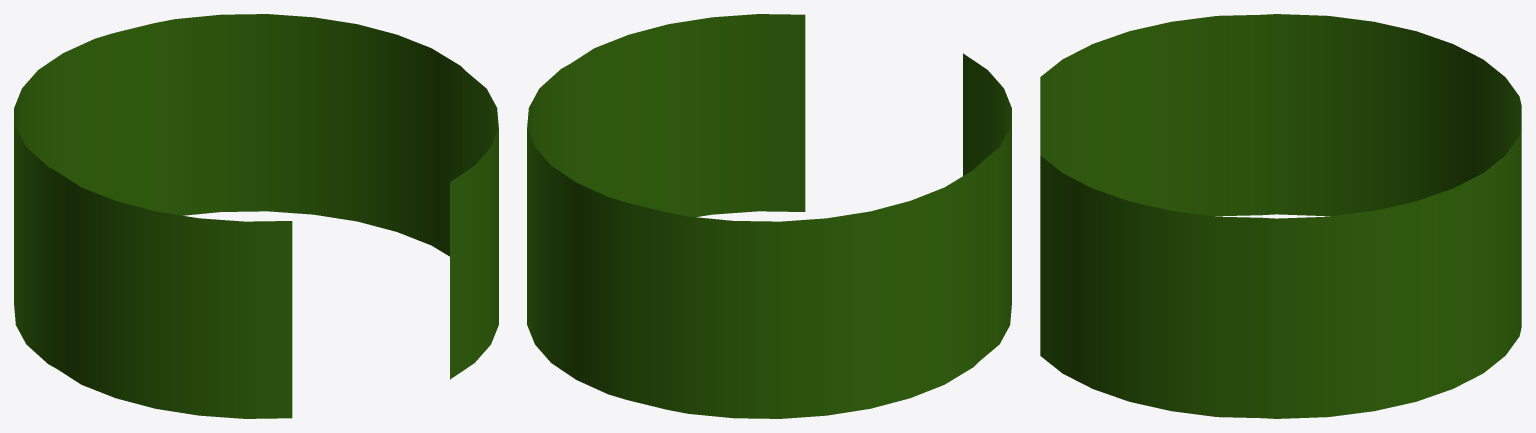
File: ParedeInv.fbx
3 views of the same model, side by side, from view 1: azimuth 30°, elevation 25°; view 2: azimuth 150°, elevation 25°; view 3: azimuth 270°, elevation 25° (orthographic).
Parts seen in each view (by area): view 1: Cylinder.012; view 2: Cylinder.012; view 3: Cylinder.012.
Boxes of the visible parts, x1=… form: Cylinder.012: x1=14, y1=14, x2=498, y2=418; Cylinder.012: x1=527, y1=14, x2=1011, y2=418; Cylinder.012: x1=1040, y1=14, x2=1521, y2=418.
Size of the model in its own units: 16695 by 7627 by 16609.
